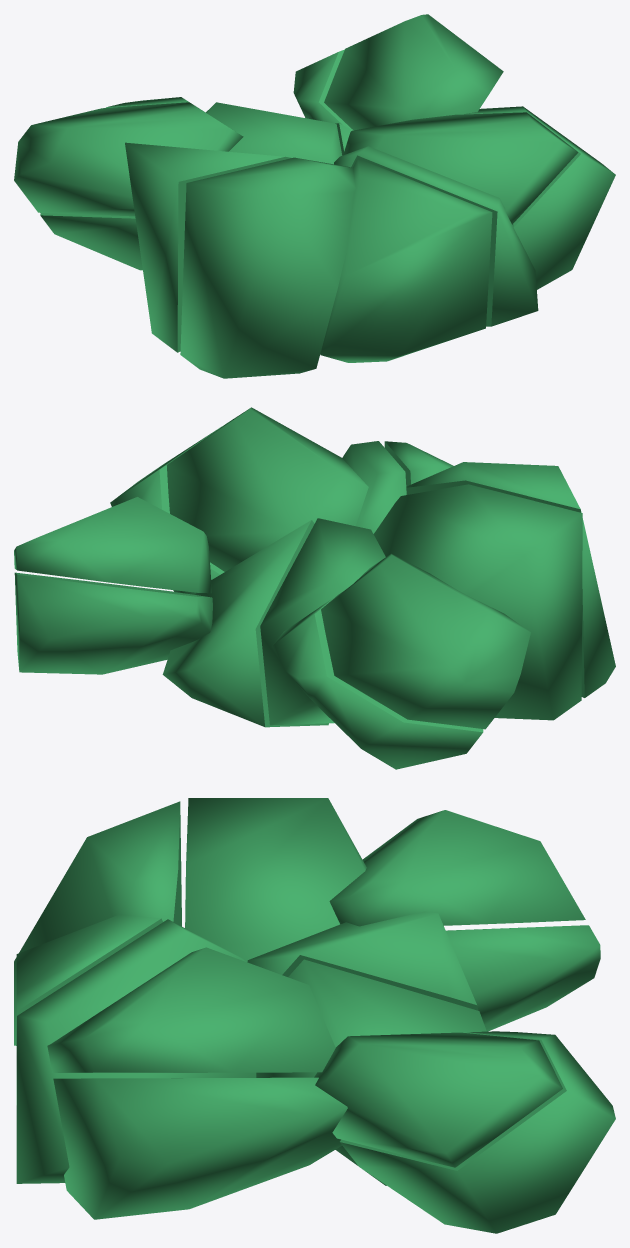
File: EmraldGemSeperated.fbx
The picture shows the model from 3 angles, top to bottom: view 1: azimuth 30°, elevation 25°; view 2: azimuth 150°, elevation 25°; view 3: azimuth 270°, elevation 25°; orthographic projection. The views are drawn at different scales.
Parts seen in each view (by area): view 1: Stones.104_cell.003, Stones.104_cell.006, Stones.104_cell.011, Stones.104_cell.001, Stones.104_cell.007, Stones.104_cell.004, Stones.104_cell.008, Stones.104_cell.005, Stones.104_cell.002, Stones.104_cell.012, Stones.104_cell.010; view 2: Stones.104_cell.004, Stones.104_cell.011, Stones.104_cell.007, Stones.104_cell.010, Stones.104_cell.009, Stones.104_cell.001, Stones.104_cell.012, Stones.104_cell.002, Stones.104_cell.003, Stones.104_cell.005, Stones.104_cell.008, Stones.104_cell.006; view 3: Stones.104_cell.008, Stones.104_cell.007, Stones.104_cell.001, Stones.104_cell.004, Stones.104_cell.010, Stones.104_cell.011, Stones.104_cell.005, Stones.104_cell.003, Stones.104_cell.012, Stones.104_cell.002, Stones.104_cell.009, Stones.104_cell.006.
Boxes of the visible parts, x1,y1,x2,y2 form: Stones.104_cell.003: [180, 157, 355, 378]; Stones.104_cell.006: [320, 158, 492, 362]; Stones.104_cell.011: [14, 102, 243, 216]; Stones.104_cell.001: [324, 14, 503, 130]; Stones.104_cell.007: [342, 112, 578, 224]; Stones.104_cell.004: [125, 142, 291, 352]; Stones.104_cell.008: [464, 106, 615, 289]; Stones.104_cell.005: [334, 146, 538, 326]; Stones.104_cell.002: [206, 102, 342, 164]; Stones.104_cell.012: [40, 97, 188, 270]; Stones.104_cell.010: [293, 49, 353, 130]; Stones.104_cell.004: [373, 484, 582, 720]; Stones.104_cell.011: [321, 553, 530, 729]; Stones.104_cell.007: [166, 407, 368, 571]; Stones.104_cell.010: [14, 572, 212, 674]; Stones.104_cell.009: [162, 520, 328, 727]; Stones.104_cell.001: [14, 497, 211, 593]; Stones.104_cell.012: [272, 598, 483, 769]; Stones.104_cell.002: [260, 518, 385, 725]; Stones.104_cell.003: [406, 462, 615, 697]; Stones.104_cell.005: [342, 441, 406, 533]; Stones.104_cell.008: [110, 426, 224, 594]; Stones.104_cell.006: [384, 441, 453, 486]; Stones.104_cell.008: [53, 1077, 347, 1219]; Stones.104_cell.007: [47, 947, 335, 1072]; Stones.104_cell.001: [314, 1032, 562, 1167]; Stones.104_cell.004: [185, 798, 366, 961]; Stones.104_cell.010: [340, 1031, 615, 1233]; Stones.104_cell.011: [329, 810, 585, 926]; Stones.104_cell.005: [16, 919, 256, 1183]; Stones.104_cell.003: [14, 801, 181, 1045]; Stones.104_cell.012: [446, 925, 600, 1031]; Stones.104_cell.002: [247, 911, 478, 1010]; Stones.104_cell.009: [256, 959, 486, 1185]; Stones.104_cell.006: [16, 914, 162, 1104].
Bounding box in the file's own units: 0.1982 × 0.0753 × 0.1669.
Materials: 1 (1 with a texture image).
